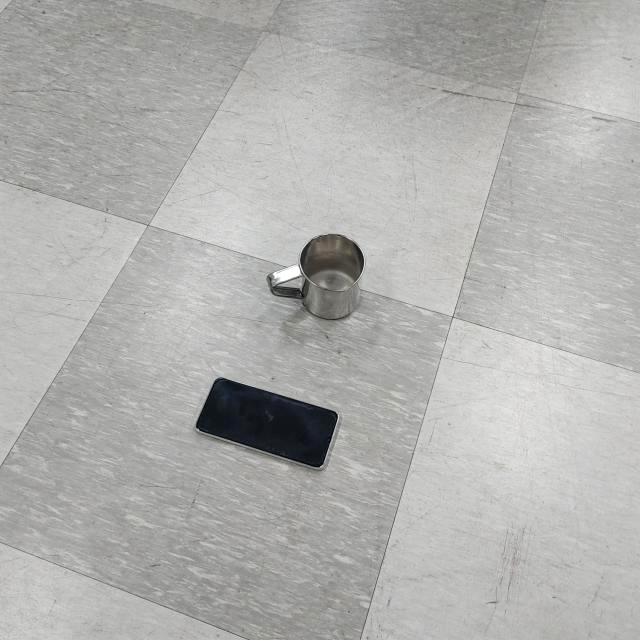cup: (270, 233, 363, 319)
phone: (196, 377, 341, 471)
